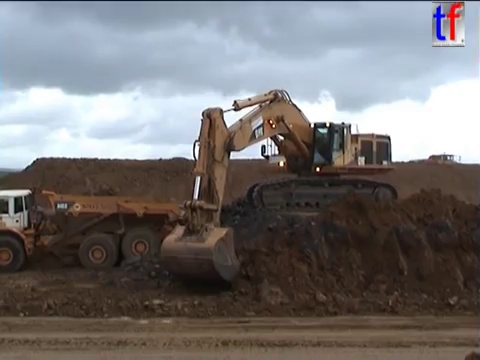excavator: (156, 86, 400, 289)
truck: (1, 186, 201, 276), (400, 152, 463, 177)
